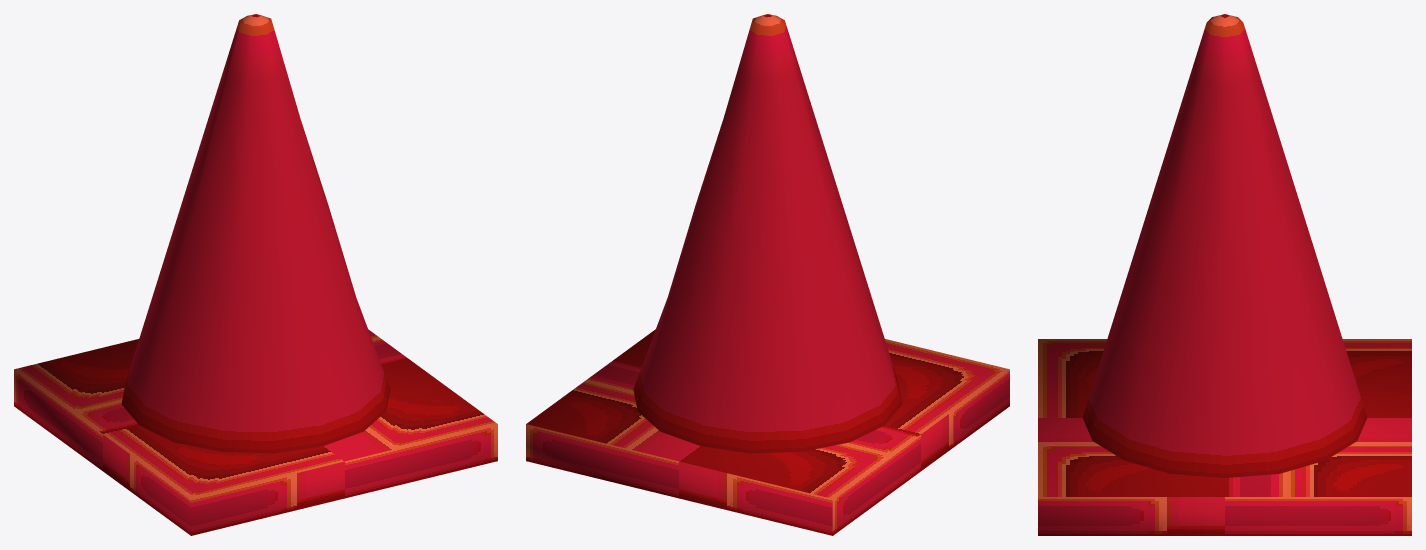
File: int_cst_redP.dae
The picture shows the model from 3 angles, left to right: view 1: azimuth 30°, elevation 25°; view 2: azimuth 150°, elevation 25°; view 3: azimuth 270°, elevation 25°; orthographic projection. The views are drawn at different scales.
Visible parts, largest first — view 1: int_cst_redP; view 2: int_cst_redP; view 3: int_cst_redP.
Part boxes in pixels (x1,y1,x2,y2): int_cst_redP: [14, 14, 497, 535]; int_cst_redP: [526, 14, 1009, 535]; int_cst_redP: [1038, 14, 1411, 535].
Size of the model in its own units: 20.8 by 27.2 by 20.8.
Materials: 1 (1 with a texture image).
